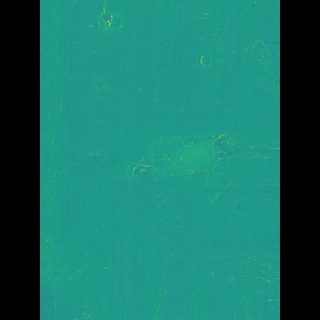Loch: (131, 127, 230, 192), (112, 10, 134, 39)
